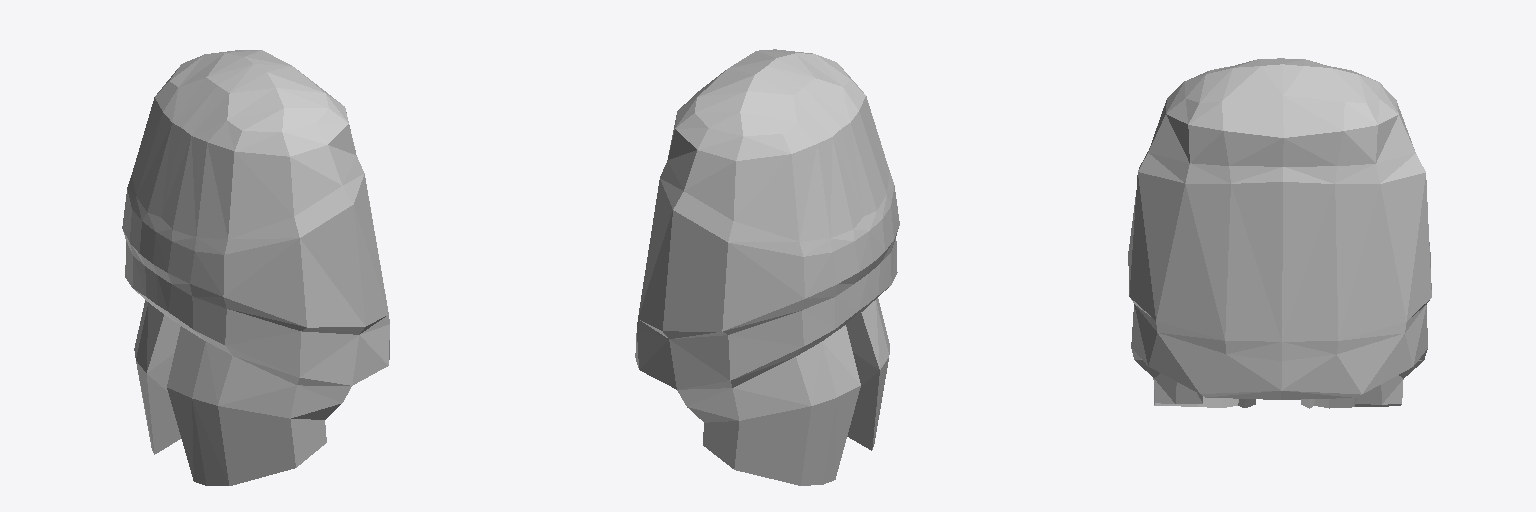
File: LFinger33.obj
The picture shows the model from 3 angles: view 1: azimuth 30°, elevation 25°; view 2: azimuth 150°, elevation 25°; view 3: azimuth 270°, elevation 25°; orthographic projection.
Parts seen in each view (by area): view 1: LFinger33_LFinger33; view 2: LFinger33_LFinger33; view 3: LFinger33_LFinger33.
Part boxes in pixels (left/top/right/bottom): LFinger33_LFinger33: left=122, top=50, right=389, bottom=485; LFinger33_LFinger33: left=635, top=49, right=899, bottom=485; LFinger33_LFinger33: left=1128, top=58, right=1431, bottom=408.
Bounding box in the file's own units: 0.017 × 0.0299 × 0.0215.